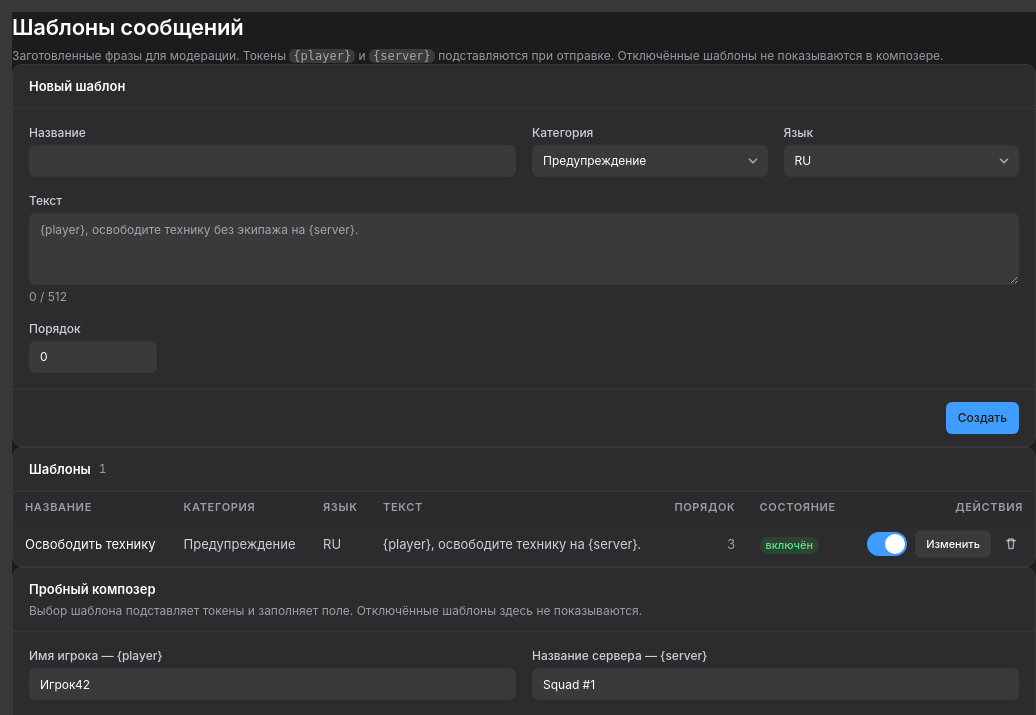
Scenario: MessageTemplatesPage › refuses to save a template without a title
This screenshot has width=1036, height=715.
What coordinates should you click on to do the following:
click the button "Создать"
I would click on:
 (982, 418)
Its box is [946, 402, 1019, 434].
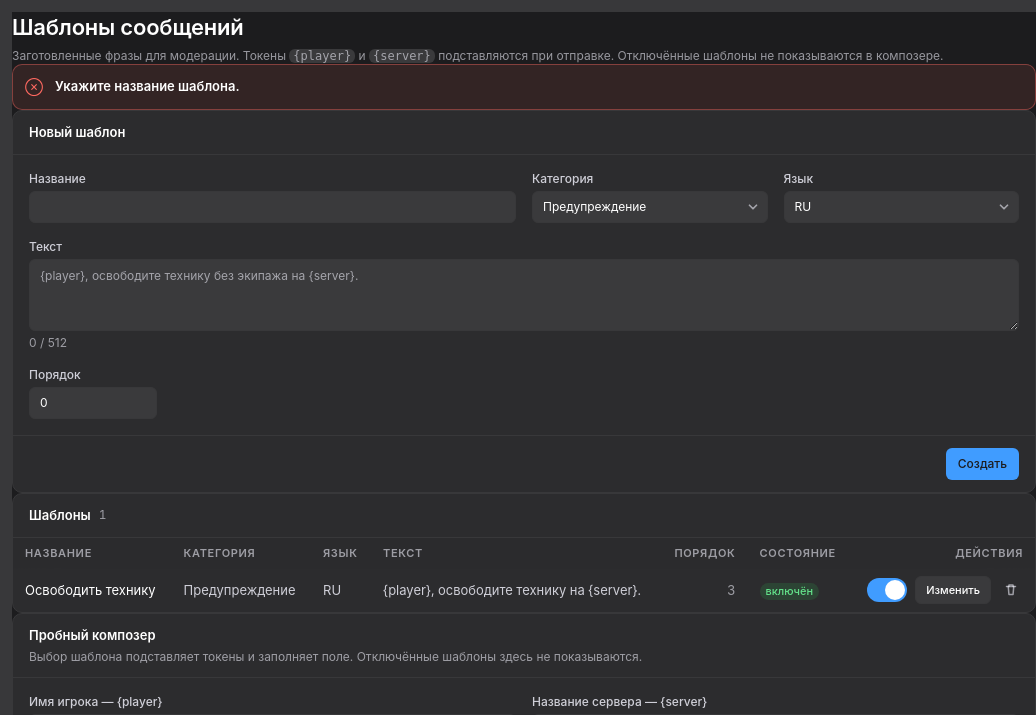
Check: the text "Укажите название шаблона." is shown, box [55, 78, 240, 94]
